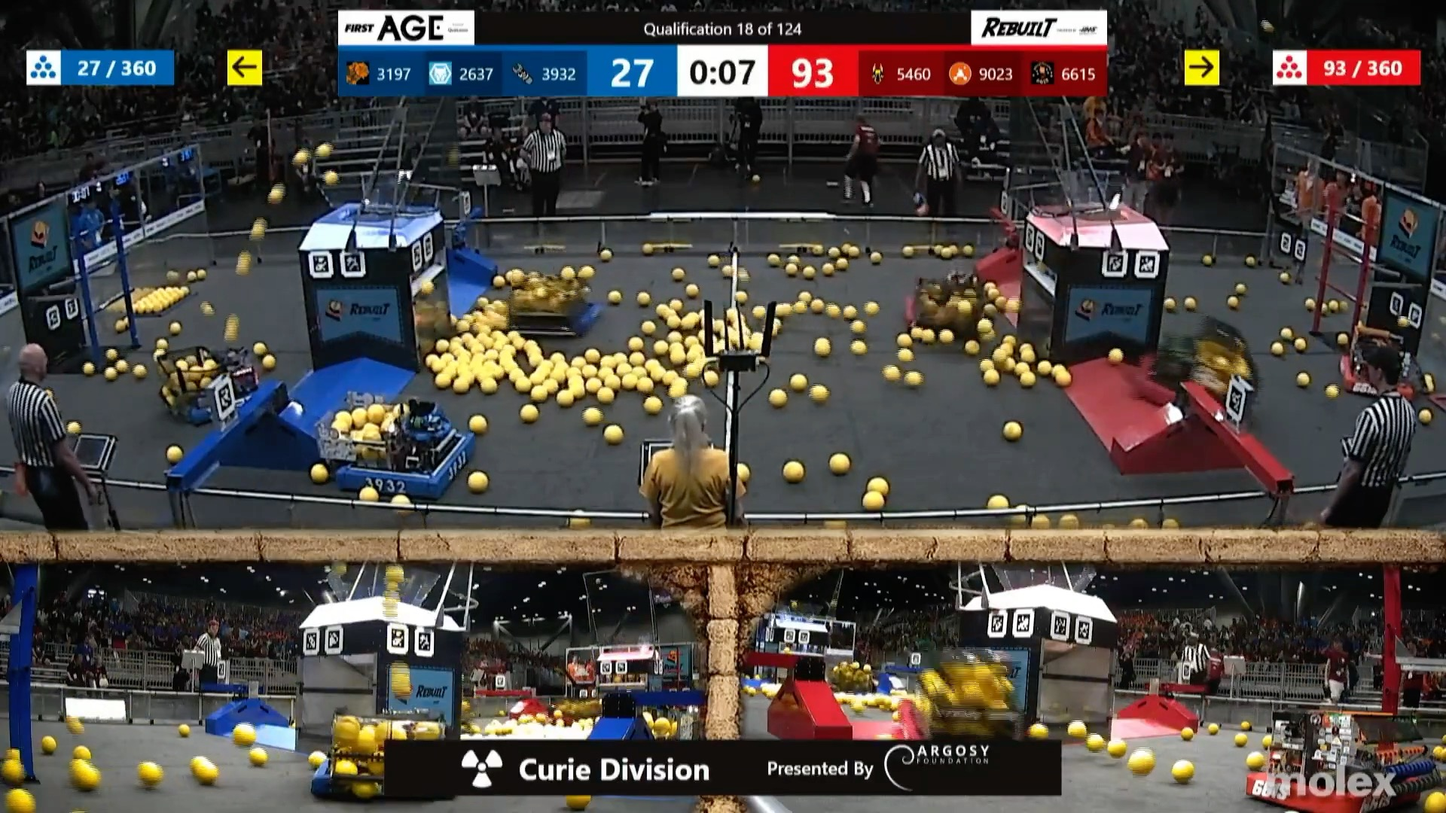bumpers: (1243, 766, 1443, 813), (1127, 349, 1247, 426), (155, 373, 290, 429), (336, 450, 471, 497), (893, 694, 1025, 742), (898, 294, 993, 354), (310, 753, 389, 810), (501, 298, 606, 338), (1335, 355, 1418, 402)
